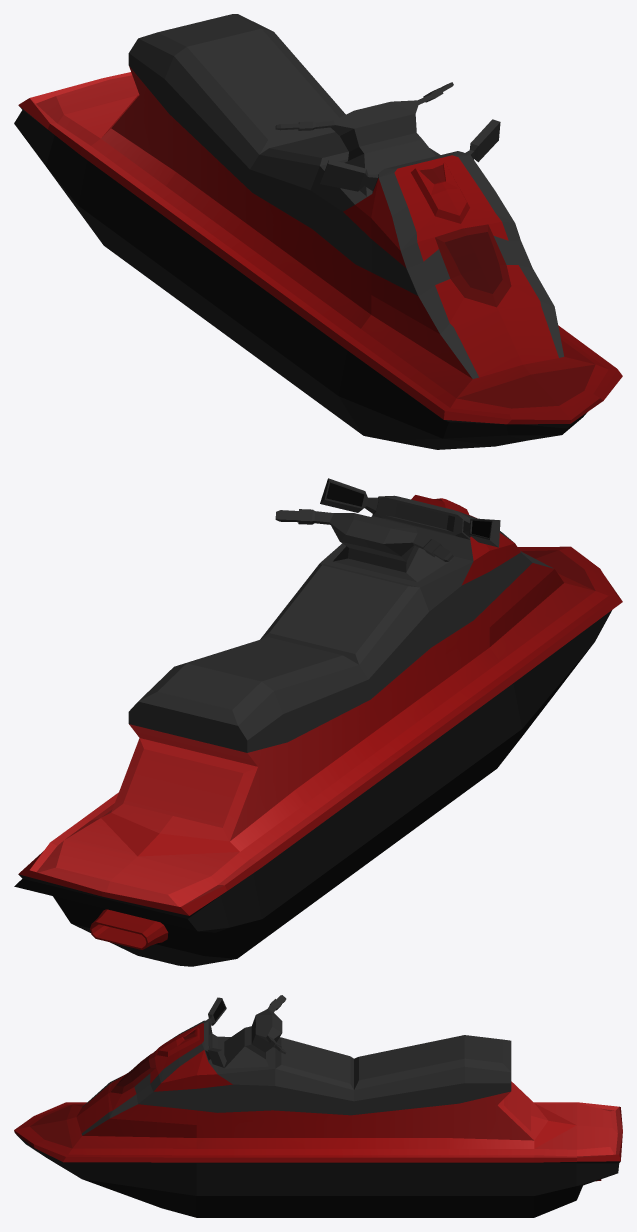
The model's file is Small_Ship2.glb.
3 views of the same model, one above another, from view 1: azimuth 30°, elevation 25°; view 2: azimuth 150°, elevation 25°; view 3: azimuth 270°, elevation 25° (orthographic). The views are drawn at different scales.
Visible parts, largest first — view 1: JetskiV1; view 2: JetskiV1; view 3: JetskiV1.
Boxes of the visible parts, x1,y1,x2,y2 form: JetskiV1: (14,14,622,449); JetskiV1: (14,478,622,966); JetskiV1: (14,995,622,1217).
Size of the model in its own units: 0.9998 by 1.51 by 4.42.
1 material, 1 textured.
